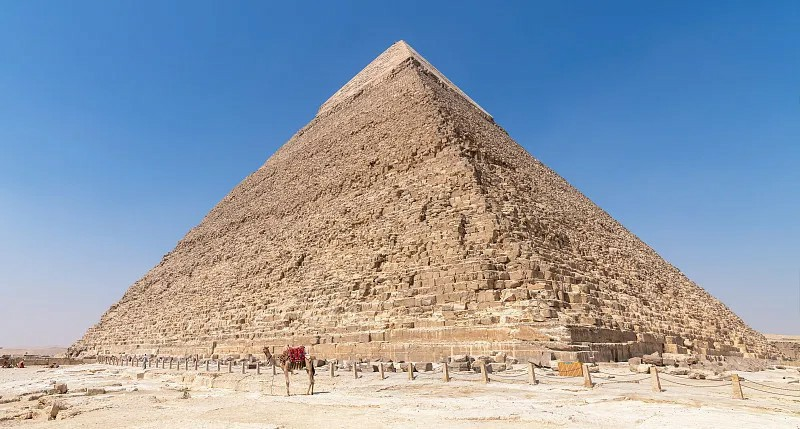Pyramid: (62, 40, 786, 363)
